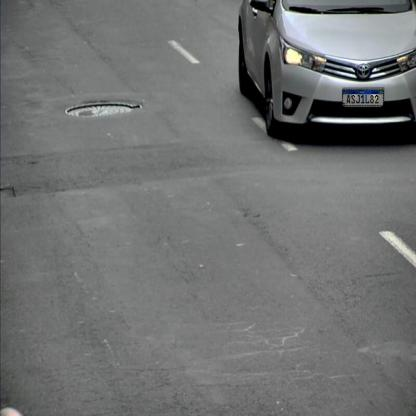PlacaM: (342, 90, 384, 106)
